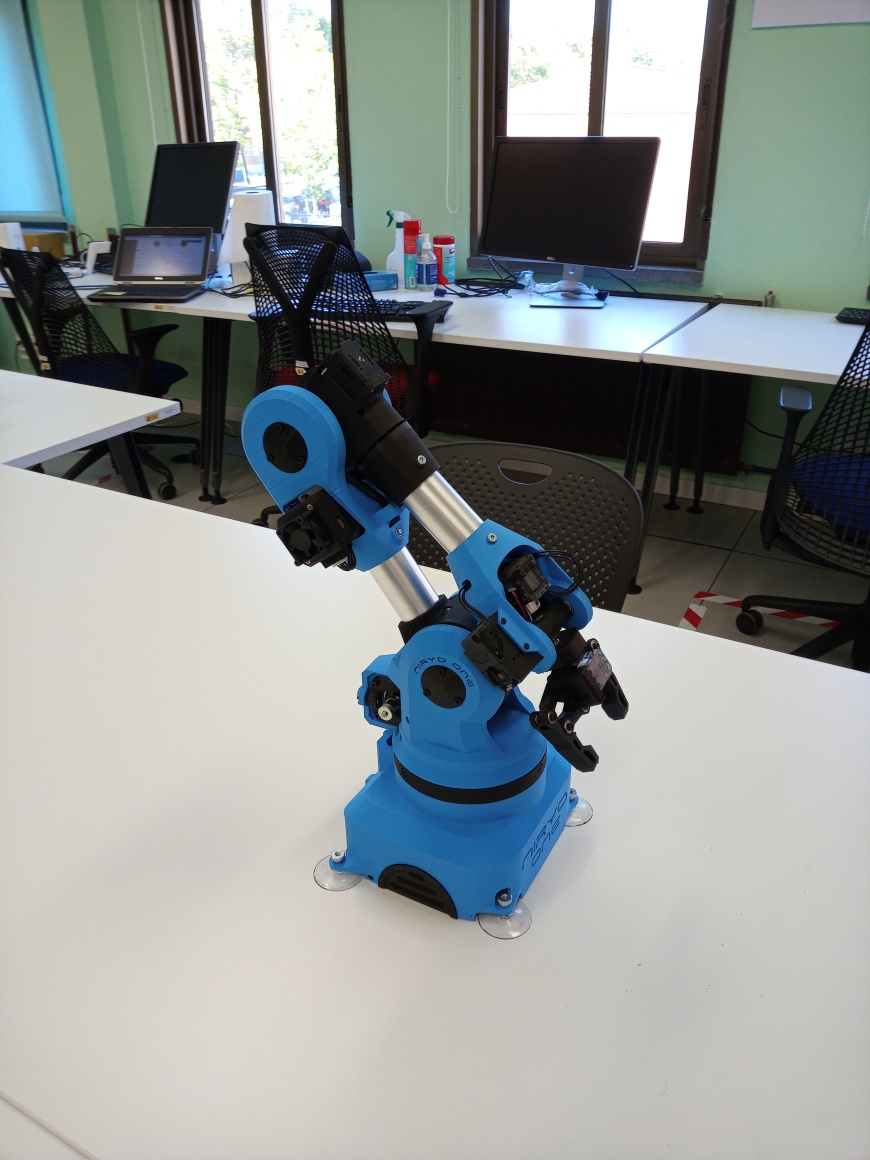robot: (238, 338, 636, 944)
